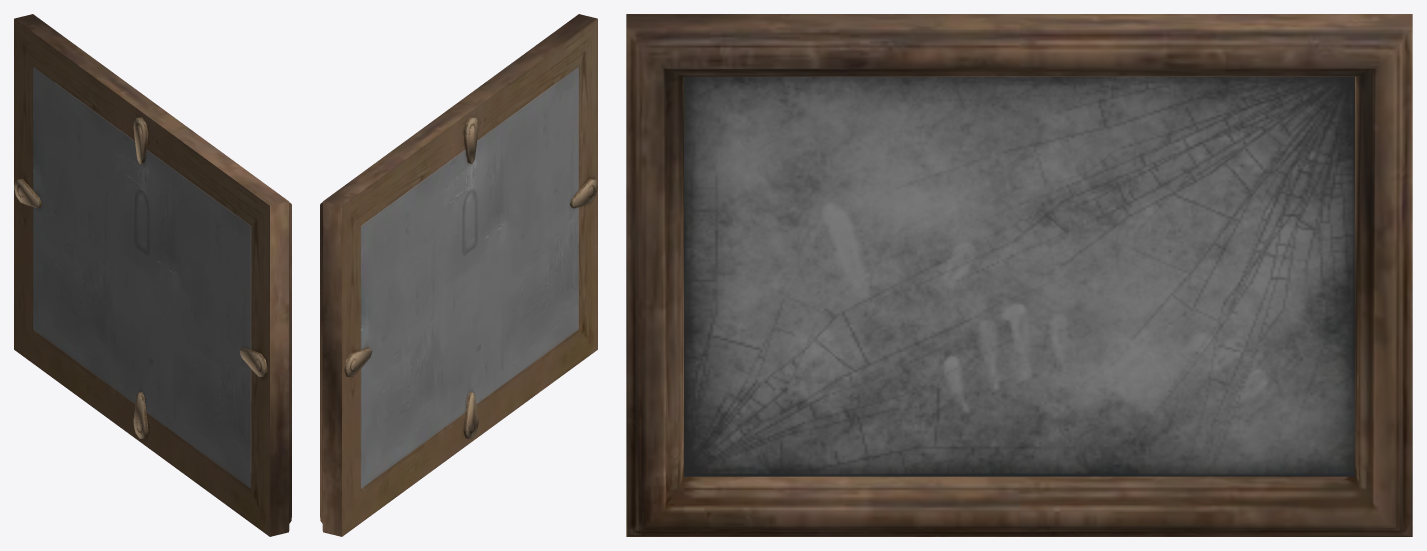
File: t_espejo_roto.glb
3 views of the same model, side by side, from view 1: azimuth 30°, elevation 25°; view 2: azimuth 150°, elevation 25°; view 3: azimuth 270°, elevation 25° (orthographic). The views are drawn at different scales.
Visible parts, largest first — view 1: Object_2; view 2: Object_2; view 3: Object_2.
Boxes of the visible parts, x1=… form: Object_2: x1=14, y1=14, x2=291, y2=536; Object_2: x1=320, y1=14, x2=597, y2=536; Object_2: x1=626, y1=14, x2=1412, y2=536.
Bounding box in the file's own units: 0.0882 × 0.9 × 1.26.
Materials: 1 (1 with a texture image).
